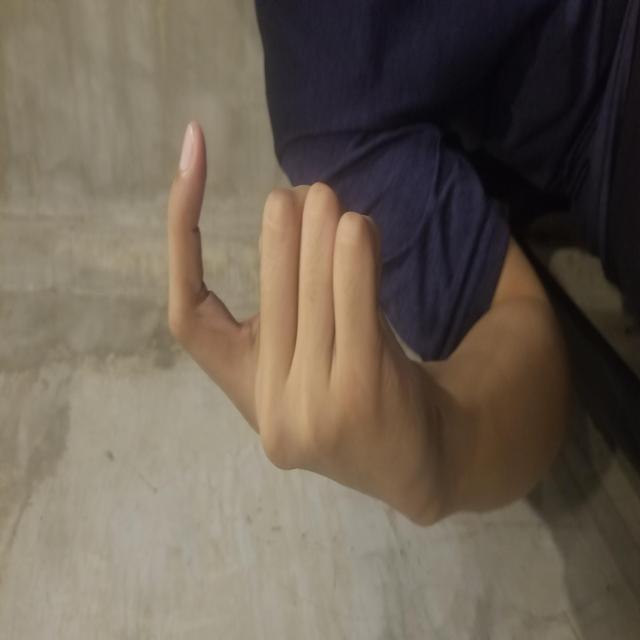X: (139, 164, 519, 419)
